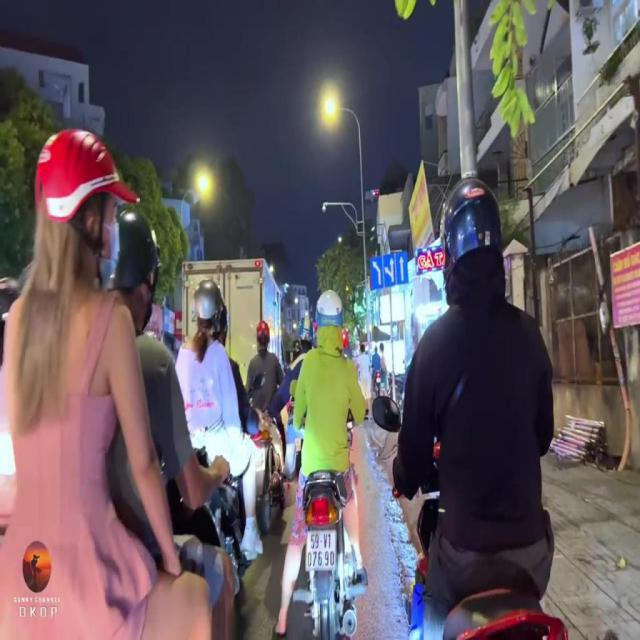huong_di_tren_moi_lan_duong_theo_vach_ke_duong: (370, 250, 410, 292)
